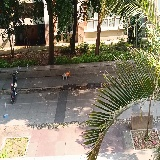fire: (65, 70, 70, 77)
